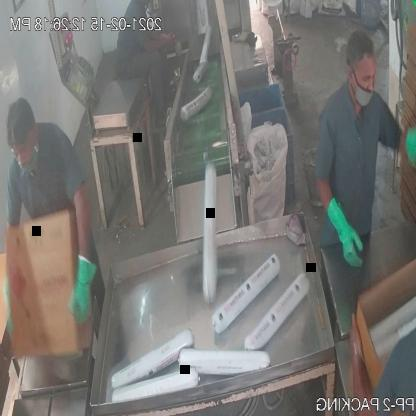glove: (321, 196, 374, 283), (67, 246, 96, 332)
no_glove: (138, 26, 176, 64)
